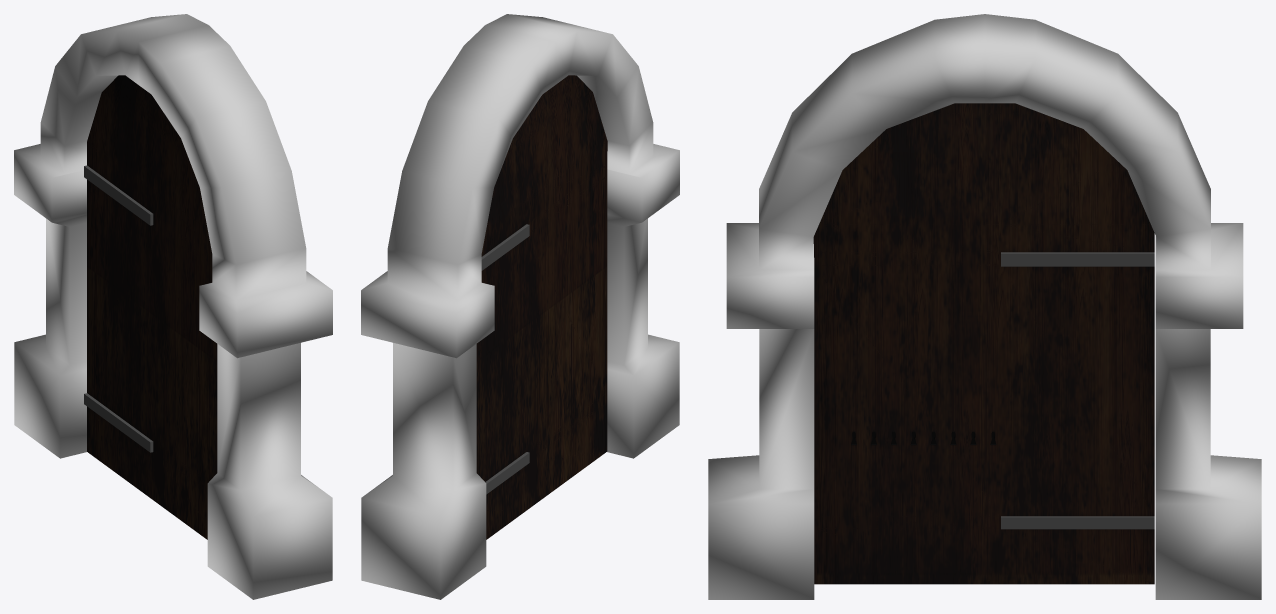
Rendered from puerta_final_v2.fbx.
3 renders of one model, left to right at view 1: azimuth 30°, elevation 25°; view 2: azimuth 150°, elevation 25°; view 3: azimuth 270°, elevation 25°, orthographic. The views are drawn at different scales.
Visible parts, largest first — view 1: marco, puerta; view 2: marco, puerta; view 3: puerta, marco.
Boxes of the visible parts, box(x1,y1,x2,y2) form: marco: box(14, 14, 332, 599); puerta: box(84, 75, 217, 539); marco: box(361, 14, 679, 599); puerta: box(476, 75, 607, 539); puerta: box(813, 103, 1154, 584); marco: box(708, 14, 1261, 599).
Size of the model in its own units: 95.09 by 446 by 412.
